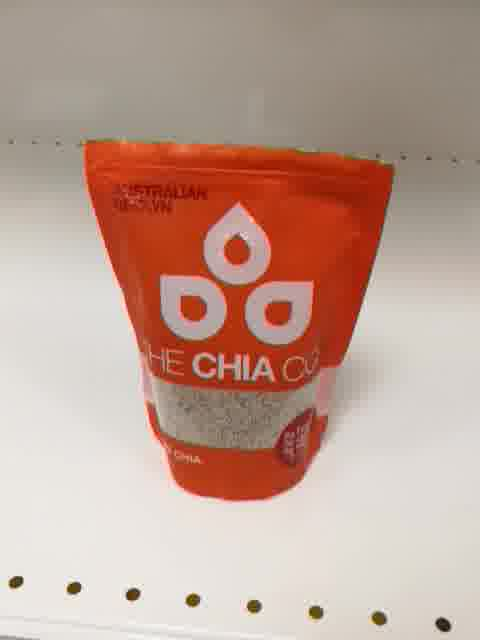whitechia: (81, 137, 397, 503)
